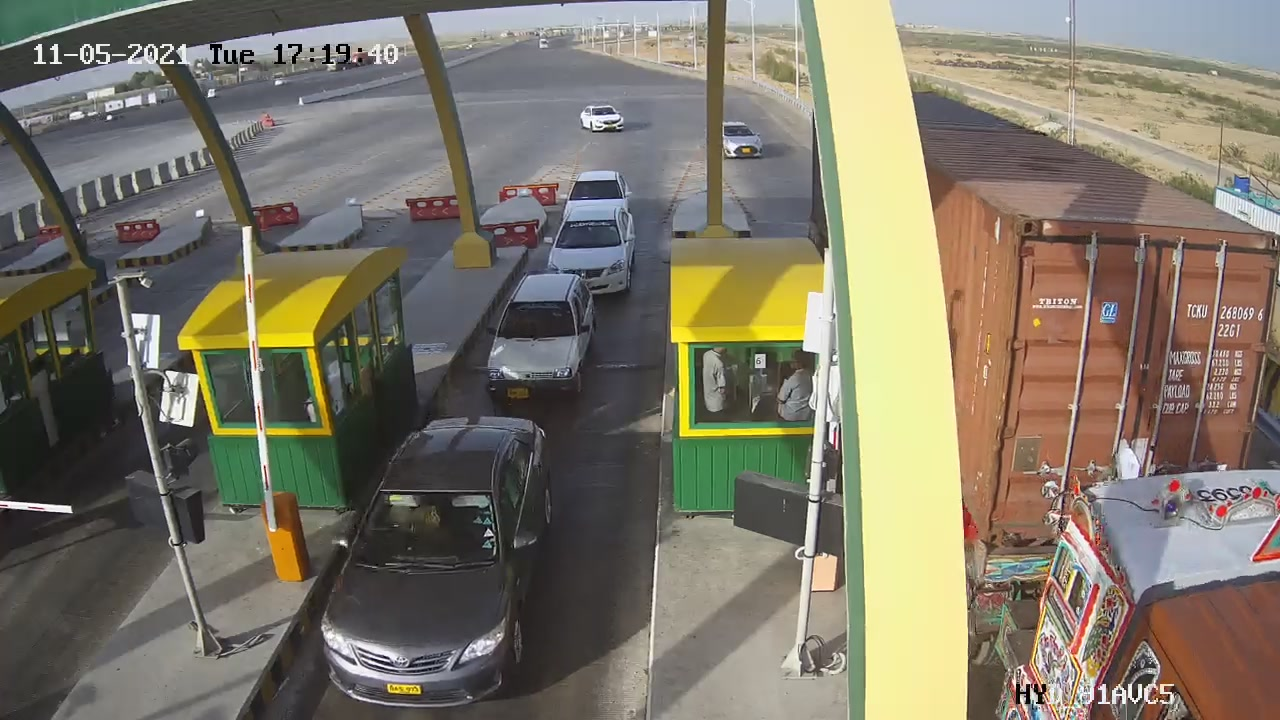F1: (470, 264, 620, 417), (531, 198, 650, 309)
